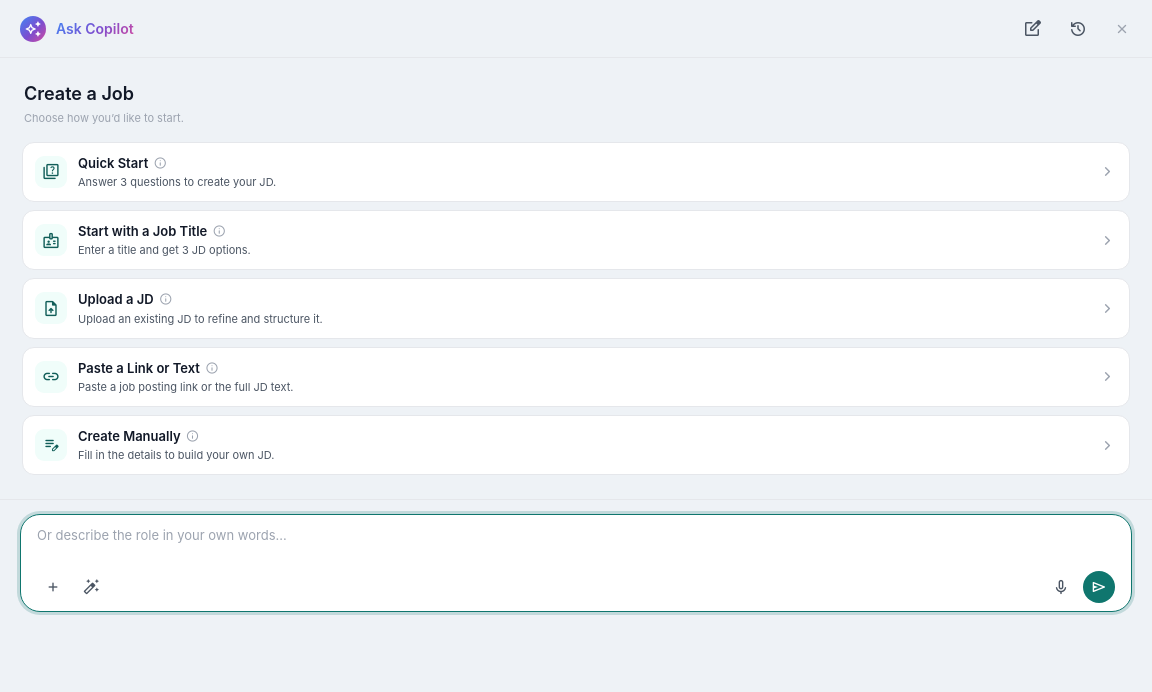
#99: refine only reports real changes › no version changed → says nothing changed, never "updated all versions"
Step 1. Click the text "Start with a Job Title" → (153, 231), box [78, 222, 228, 240]
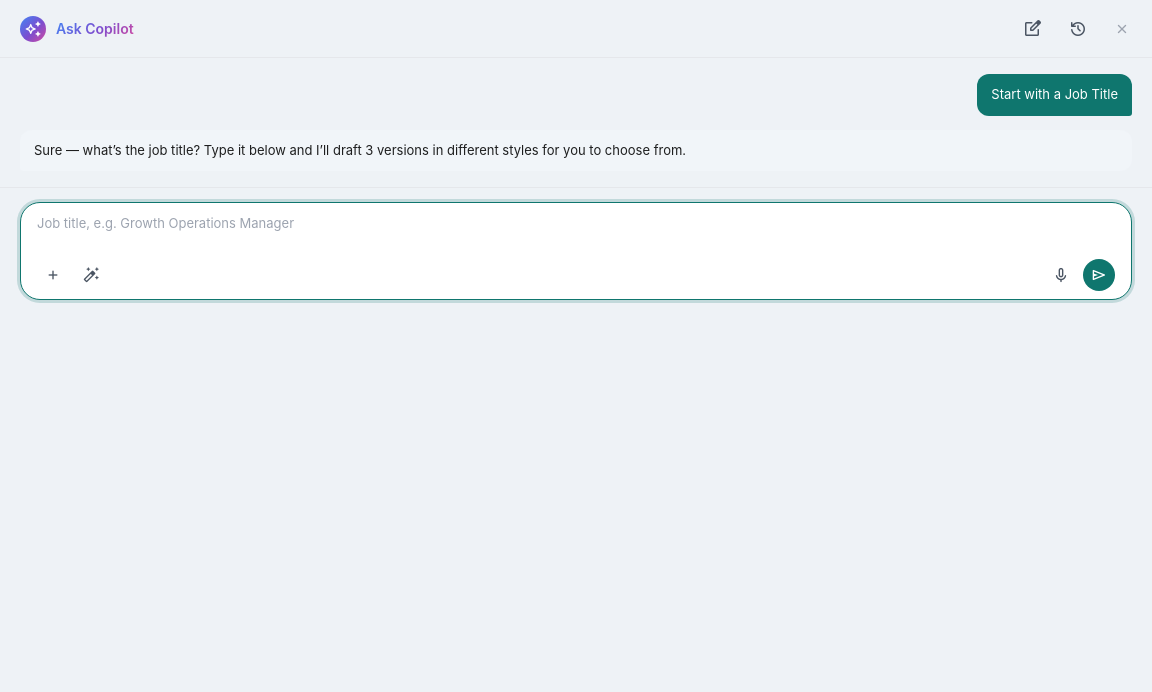
Step 2. Type "Finance Manager" into the text box with placeholder "Job title, e.g. Growth Operations Manager" → (576, 234), box [37, 214, 1115, 253]
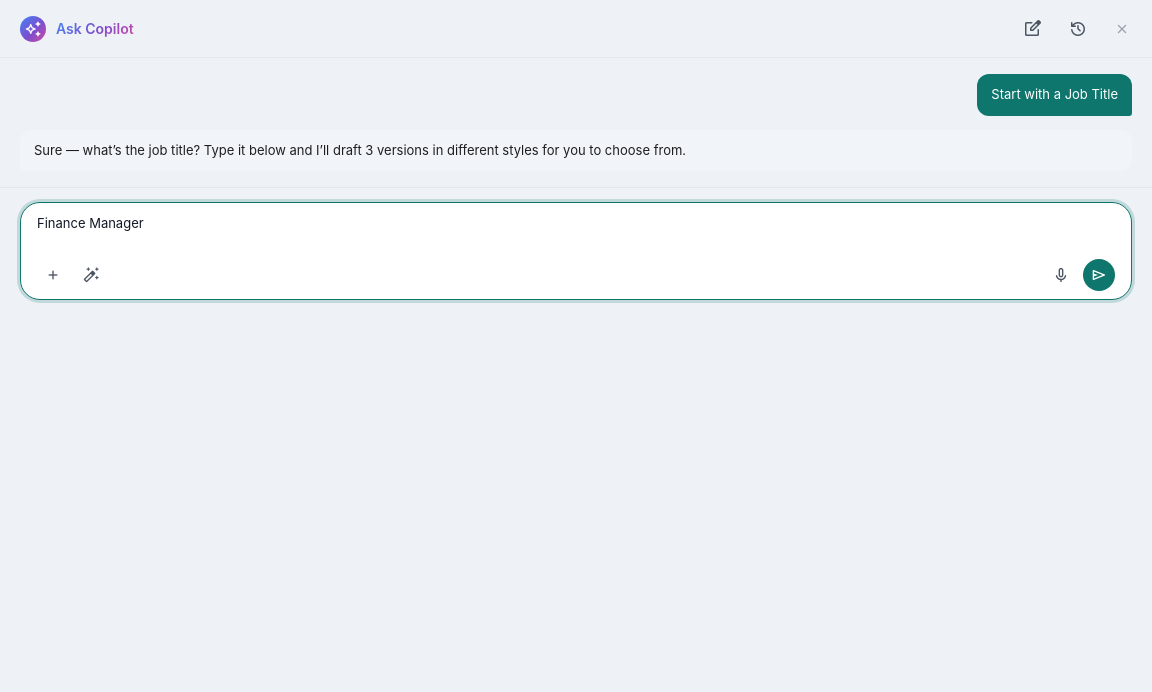
Step 3. Click the button named "Send" → (1099, 275), box [1083, 259, 1115, 291]
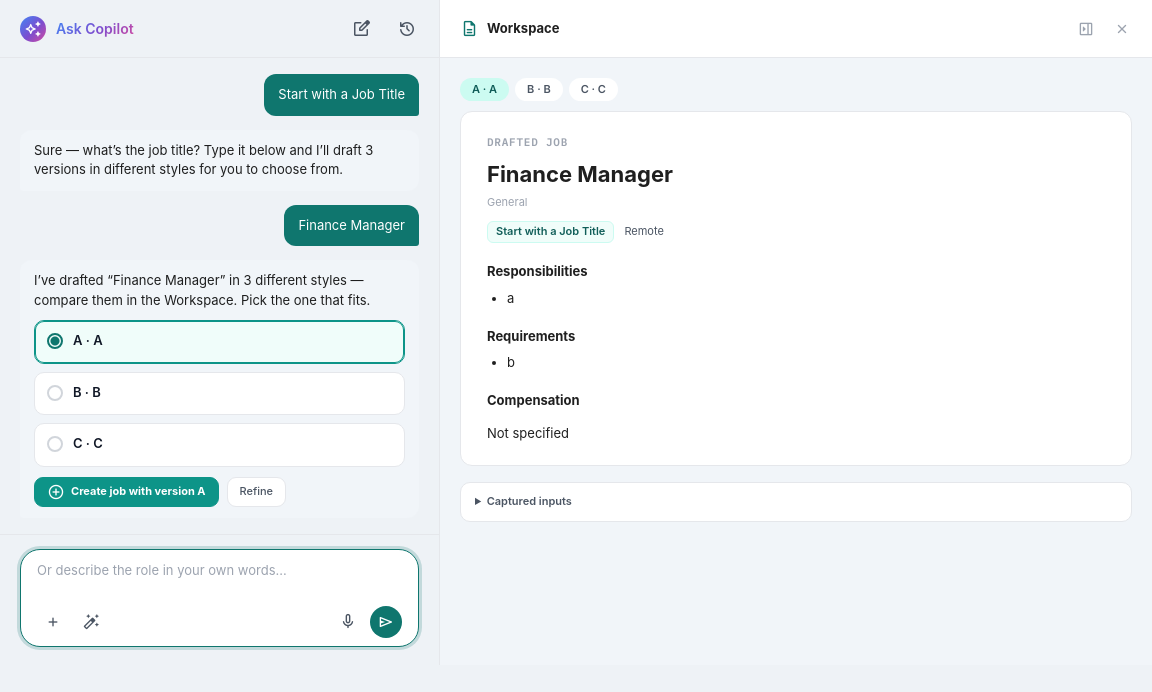
Step 4. Type "put the salary in the JD" into the text box with placeholder "Or describe the role in your own words…" → (220, 580), box [37, 560, 402, 600]
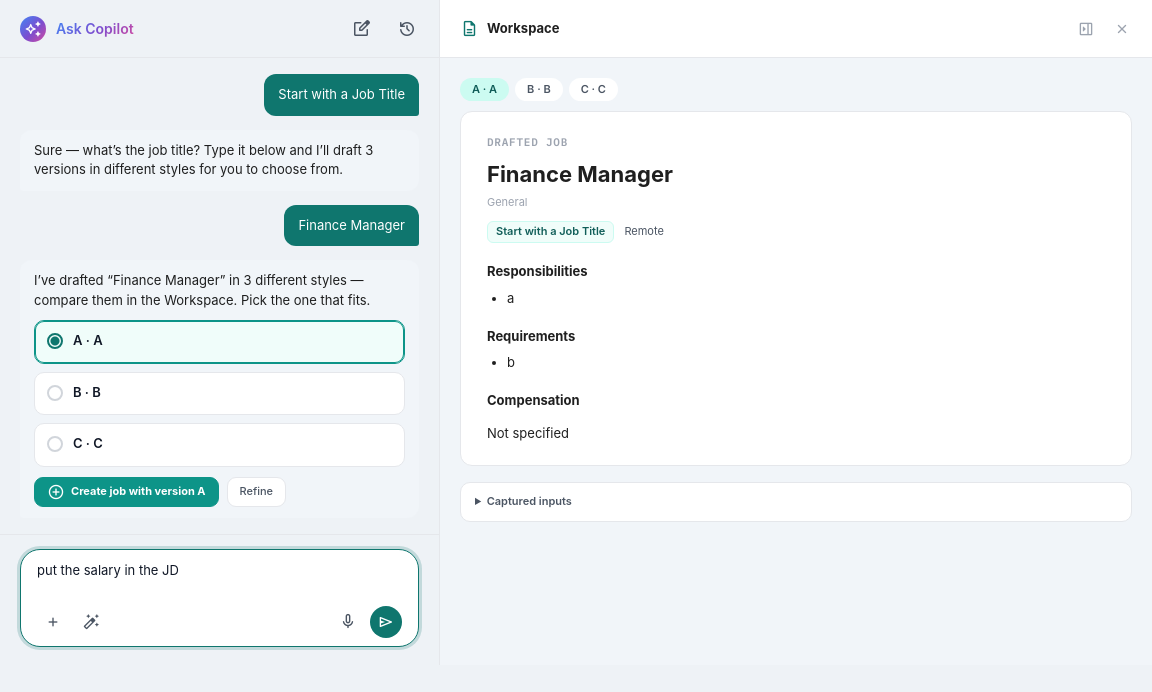
Step 5. Click the button named "Send" → (386, 622), box [370, 606, 402, 638]
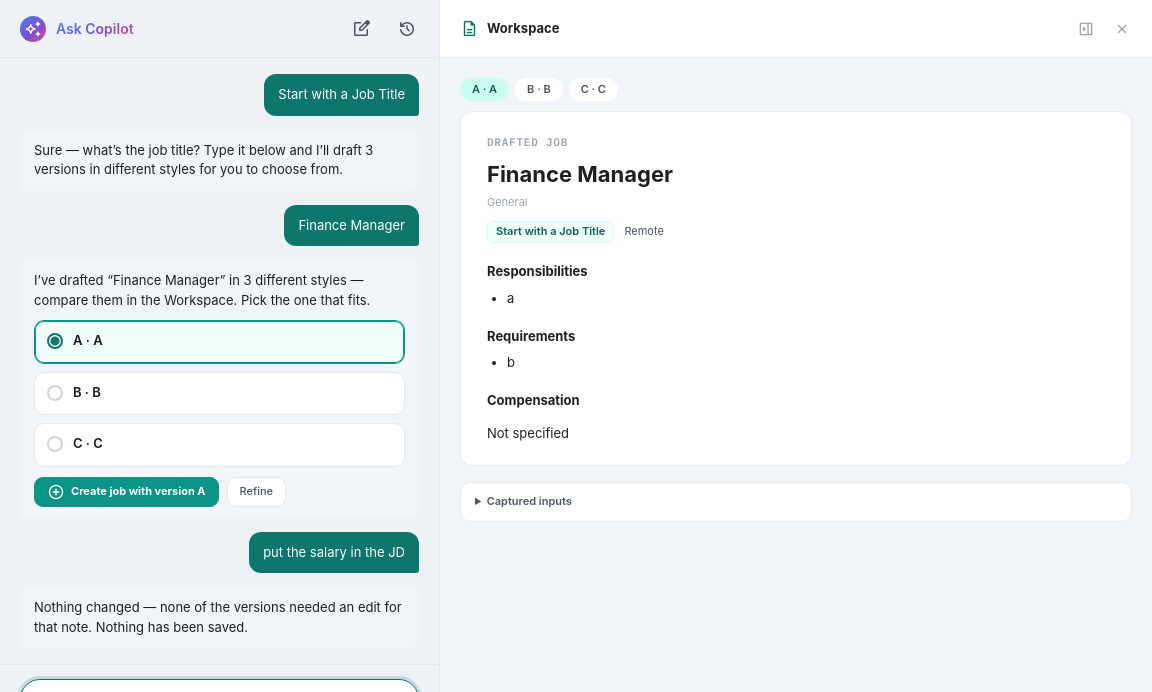
Result: the text "Nothing changed — none of the versions needed an edit" is shown at [34, 599, 405, 634]
